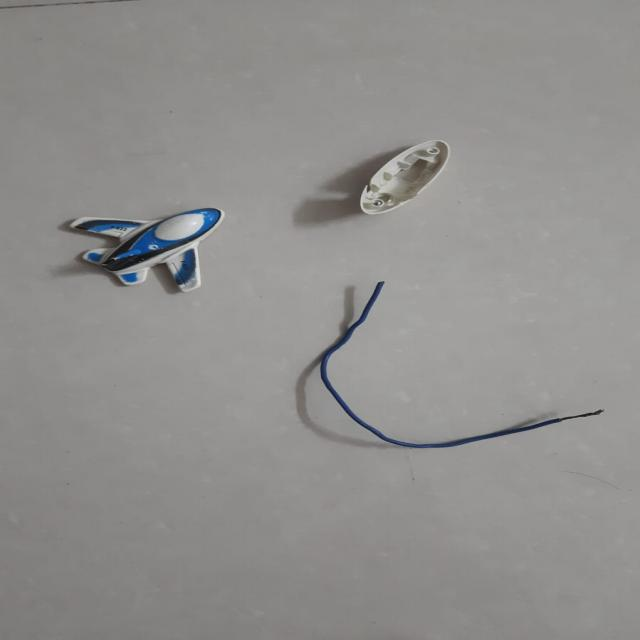dry: (296, 281, 622, 463), (28, 183, 252, 319), (304, 124, 543, 234)
